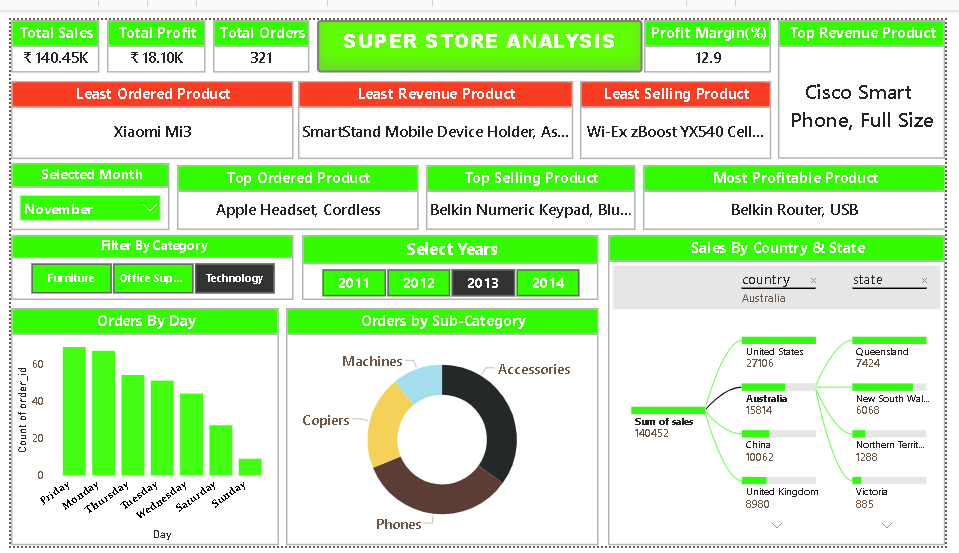

Layout of this report page (visuals, bound fields, positions):
{"tool":"powerbi","page":{"name":"Page 1","canvas":[1280,720],"ordinal":0},"visuals":[{"type":"card","title":"Total Sales","fields":{"Values":["SuperStoreOrders.Total_sales"]},"box":[0,0,121,72],"z":0},{"type":"card","title":"Total Profit","fields":{"Values":["SuperStoreOrders.Total_profit"]},"box":[131,0,135.4,72],"z":1000},{"type":"card","title":"Profit Margin(%)","fields":{"Values":["SuperStoreOrders.Profit_margin"]},"box":[866.9,0,174.2,72],"z":2000},{"type":"card","title":"Total Orders","fields":{"Values":["SuperStoreOrders.Total_orders"]},"box":[276.5,0,132.5,72],"z":3000},{"type":"card","title":"Least Selling Product","fields":{"Values":["SuperStoreOrders.Least_selling_product"]},"box":[779.5,83.6,261.6,106.8],"z":4000},{"type":"card","title":"Top Selling Product","fields":{"Values":["SuperStoreOrders.Top_selling_product"]},"box":[568.8,198.7,286.6,89.3],"z":5000},{"type":"card","title":"Top Revenue Product","fields":{"Values":["SuperStoreOrders.Top_revenue_product"]},"box":[1051.2,0,229,190.1],"z":6000},{"type":"card","title":"Least Revenue Product","fields":{"Values":["SuperStoreOrders.Least_revenue_product"]},"box":[393.2,83.6,376.7,106.8],"z":7000},{"type":"card","title":"Most Profitable Product","fields":{"Values":["SuperStoreOrders.Most_profitable_product"]},"box":[865.4,198.7,414.7,89.3],"z":8000},{"type":"card","title":"Least Ordered Product","fields":{"Values":["SuperStoreOrders.least_ordered_product"]},"box":[0,83.5,387.4,106.6],"z":9000},{"type":"card","title":"Top Ordered Product","fields":{"Values":["SuperStoreOrders.Most_ordered_product"]},"box":[227.5,198.7,331.2,89.3],"z":10000},{"type":"slicer","title":"Selected Month","fields":{"Values":["SuperStoreOrders.Month"]},"box":[0,195.8,217.4,92.2],"z":11000},{"type":"slicer","title":"Select Years","fields":{"Values":["SuperStoreOrders.year"]},"box":[398.9,295.2,406.1,89.3],"z":12000},{"type":"columnChart","title":"Orders By Day","fields":{"Category":["SuperStoreOrders.Day"],"Y":["CountNonNull(SuperStoreOrders.order_id)"]},"box":[0,394.6,367.2,325.4],"z":13000},{"type":"slicer","title":"Filter By Category","fields":{"Values":["SuperStoreOrders.category"]},"box":[0,295.2,387.4,89.3],"z":14000},{"type":"textbox","box":[419,0,446.4,72],"z":15000},{"type":"decompositionTreeVisual","title":"Sales By Country & State","fields":{"ExplainBy":["SuperStoreOrders.country","SuperStoreOrders.state"],"Analyze":["Sum(SuperStoreOrders.sales)"]},"box":[817.9,295.2,462.2,424.8],"z":16000},{"type":"donutChart","title":"Orders by Sub-Category","fields":{"Category":["SuperStoreOrders.sub_category"],"Y":["CountNonNull(SuperStoreOrders.order_id)"]},"box":[377.3,394.6,427.7,325.4],"z":16001}]}

Visuals, with their boxes in screenshot pixels (x1, y1, x2, y2), scaled from the page's 1280x720 canvas onto the 959x553 screenshot:
"Total Sales" card: 0:0:91:55
"Total Profit" card: 98:0:200:55
"Profit Margin(%)" card: 649:0:780:55
"Total Orders" card: 207:0:306:55
"Least Selling Product" card: 584:64:780:146
"Top Selling Product" card: 426:153:641:221
"Top Revenue Product" card: 788:0:958:146
"Least Revenue Product" card: 295:64:577:146
"Most Profitable Product" card: 648:153:958:221
"Least Ordered Product" card: 0:64:290:146
"Top Ordered Product" card: 170:153:419:221
"Selected Month" slicer: 0:150:163:221
"Select Years" slicer: 299:227:603:295
"Orders By Day" columnChart: 0:303:275:552
"Filter By Category" slicer: 0:227:290:295
textbox: 314:0:648:55
"Sales By Country & State" decompositionTreeVisual: 613:227:958:552
"Orders by Sub-Category" donutChart: 283:303:603:552
